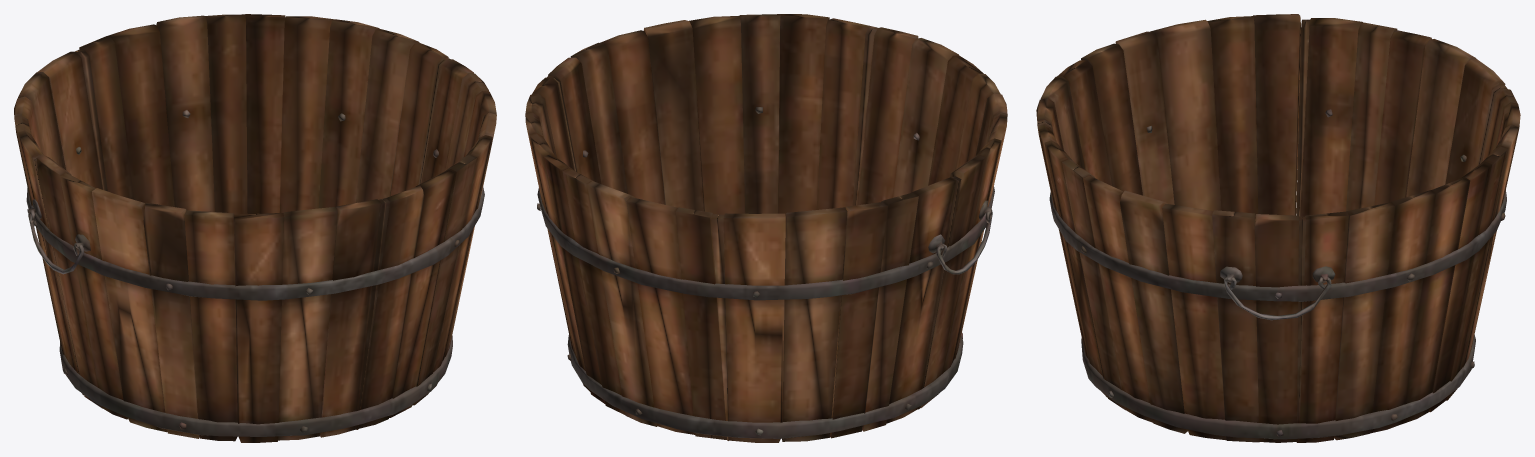
Rendered from wooden_bucket_02.glb.
The picture shows the model from 3 angles, left to right: view 1: azimuth 30°, elevation 25°; view 2: azimuth 150°, elevation 25°; view 3: azimuth 270°, elevation 25°; orthographic projection.
Visible parts, largest first — view 1: wooden_bucket_02; view 2: wooden_bucket_02; view 3: wooden_bucket_02.
Boxes of the visible parts, x1,y1,x2,y2 form: wooden_bucket_02: (14,14,496,442); wooden_bucket_02: (525,14,1007,442); wooden_bucket_02: (1036,14,1520,442).
Bounding box in the file's own units: 0.6153 × 0.3504 × 0.6146.
1 material, 1 textured.
